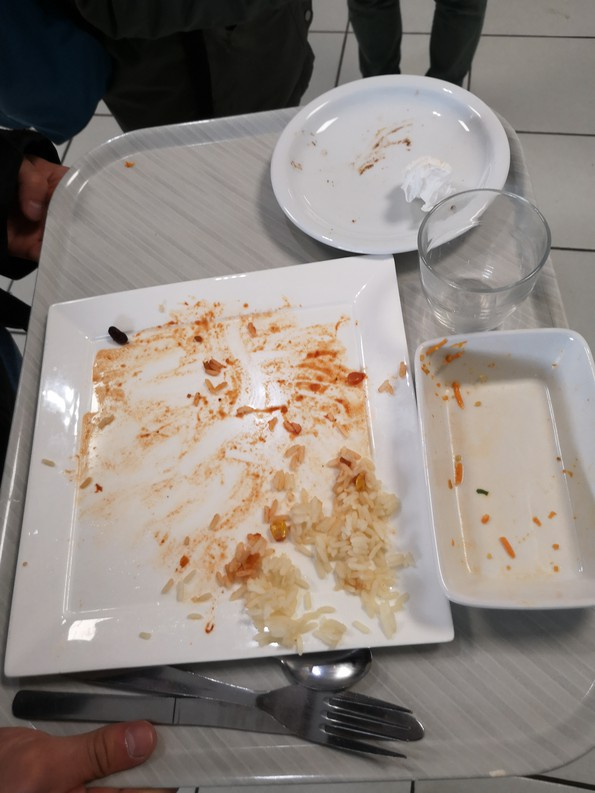cup: (403, 180, 562, 342)
cutlery: (1, 637, 446, 773)
orga: (249, 449, 405, 647)
trash: (389, 150, 448, 206)
